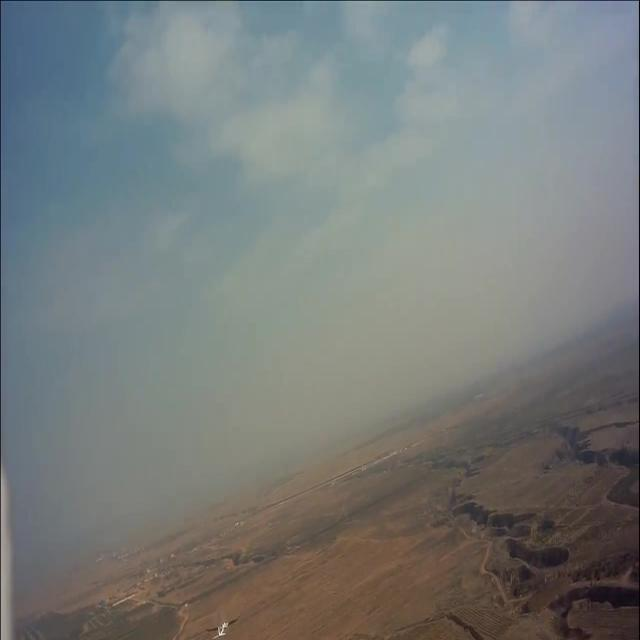iha: (205, 614, 241, 640)
